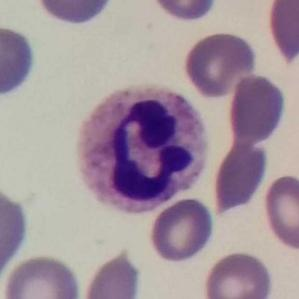Neutrophil: (68, 78, 214, 220)
RBC: (181, 28, 259, 100), (147, 195, 217, 266), (209, 138, 270, 218), (225, 72, 289, 145), (1, 251, 84, 299), (200, 248, 276, 299), (0, 178, 33, 292), (79, 246, 145, 299), (0, 21, 39, 102), (260, 171, 299, 252), (28, 0, 117, 29), (263, 0, 298, 66), (146, 0, 220, 24)
